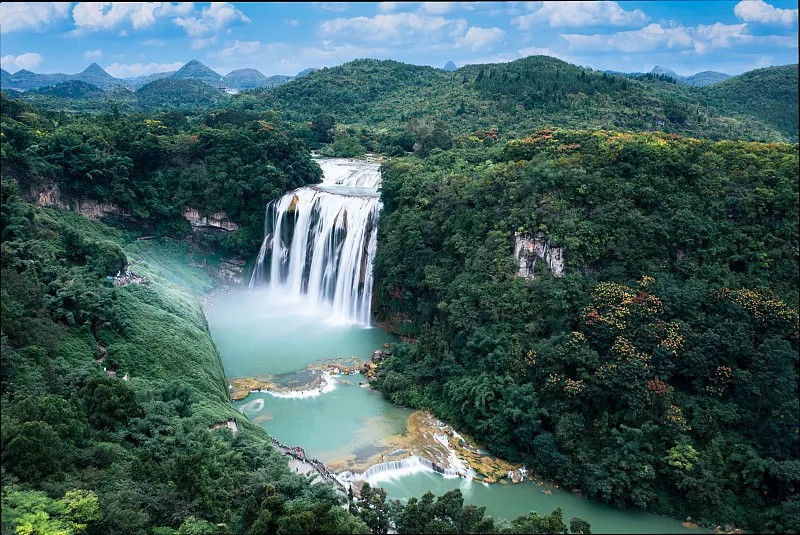Huangguoshu: (252, 156, 384, 328)
